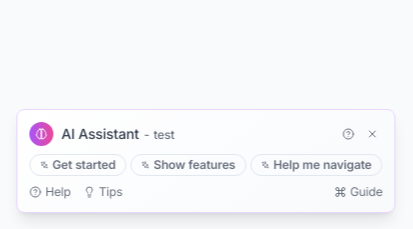
Test: AIContextToolbar › Error Handling › should fallback to default help when context is missing
Click the button titled "Expand" at (349, 134), box 339,124 -> 359,144
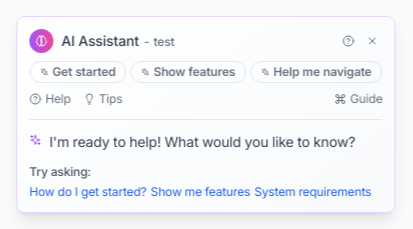
Expected: the text "I'm ready to help! What would you like to know?" is shown, 49,132 -> 355,152
